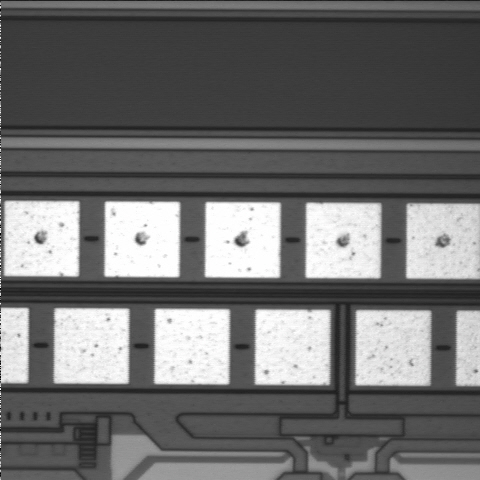pad: (104, 201, 180, 277), (205, 202, 281, 278), (355, 310, 431, 386), (4, 201, 79, 277), (305, 203, 381, 278), (54, 308, 129, 384), (154, 309, 230, 384), (255, 309, 330, 385)
